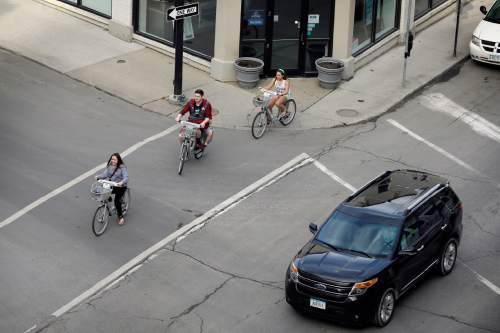bikerider: (77, 143, 141, 238), (171, 81, 219, 183), (248, 64, 298, 143)
